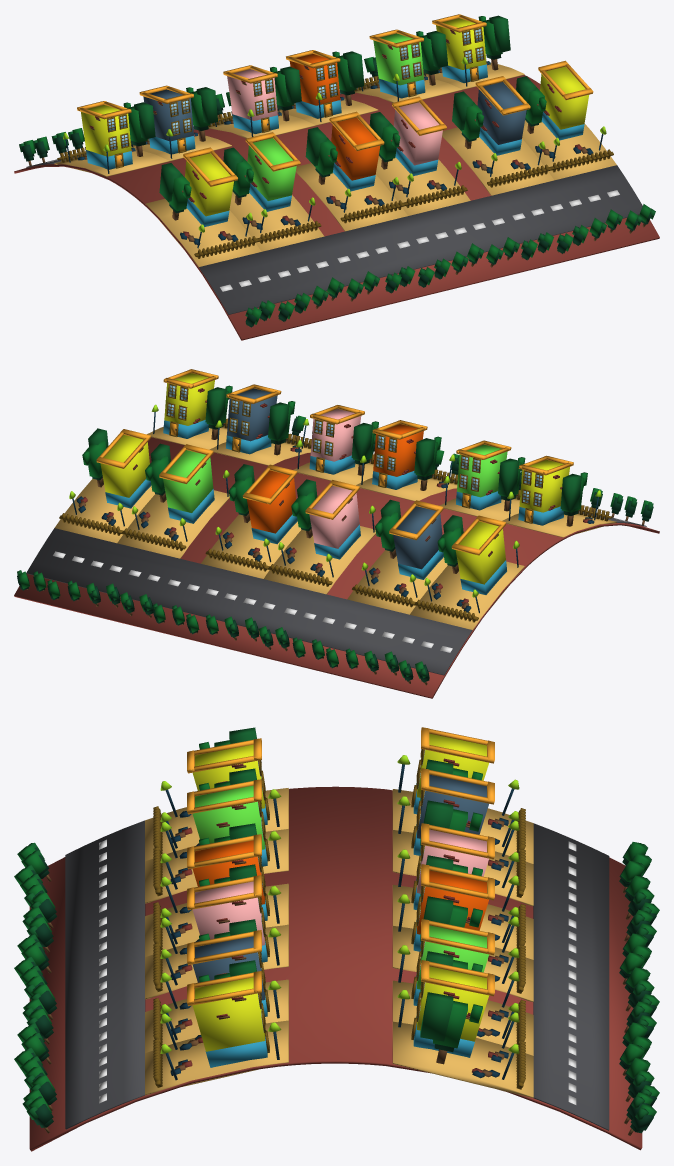
The model's file is gamescene_curved_ui.fbx.
The picture shows the model from 3 angles, top to bottom: view 1: azimuth 30°, elevation 25°; view 2: azimuth 150°, elevation 25°; view 3: azimuth 270°, elevation 25°; orthographic projection. The views are drawn at different scales.
Visible parts, largest first — view 1: city, land; view 2: city, land; view 3: city, land.
Boxes of the visible parts, x1,y1,x2,y2 form: city: (19,14,655,327); land: (14,75,659,340); city: (17,369,653,685); land: (14,437,659,698); city: (14,727,659,1135); land: (29,786,642,1151).
Size of the model in its own units: 20086 by 5367 by 19935.
